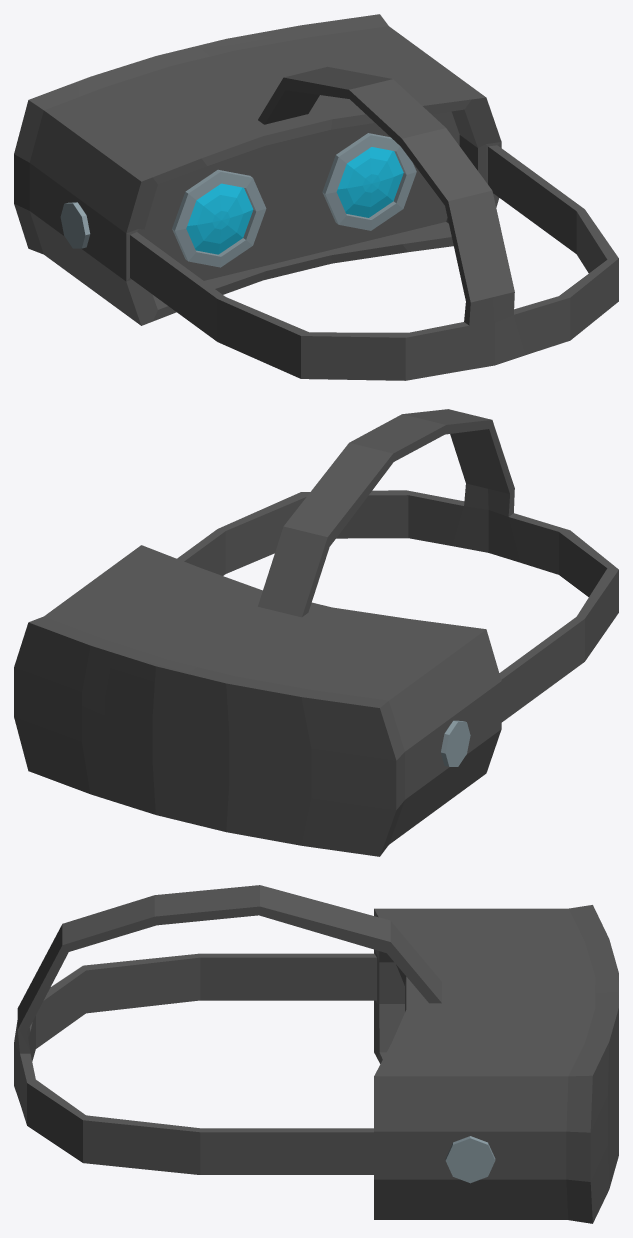
Rendered from headset2.gltf.
3 views of the same model, one above another, from view 1: azimuth 30°, elevation 25°; view 2: azimuth 150°, elevation 25°; view 3: azimuth 270°, elevation 25° (orthographic).
Visible parts, largest first — view 1: High-end_headset_01_Cube.027; view 2: High-end_headset_01_Cube.027; view 3: High-end_headset_01_Cube.027.
Boxes of the visible parts, x1,y1,x2,y2 form: High-end_headset_01_Cube.027: [14, 14, 618, 380]; High-end_headset_01_Cube.027: [14, 409, 618, 856]; High-end_headset_01_Cube.027: [14, 885, 618, 1223].
Size of the model in its own units: 0.2453 by 0.1482 by 0.3349.
